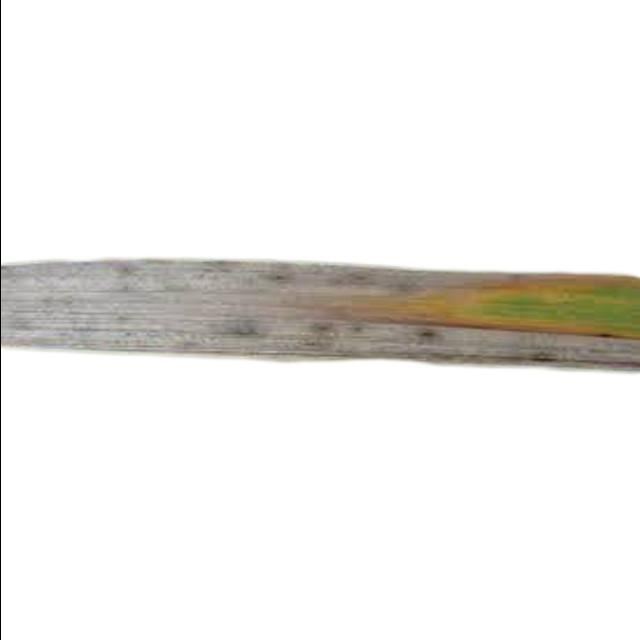Leaf scald: (0, 192, 640, 449)
